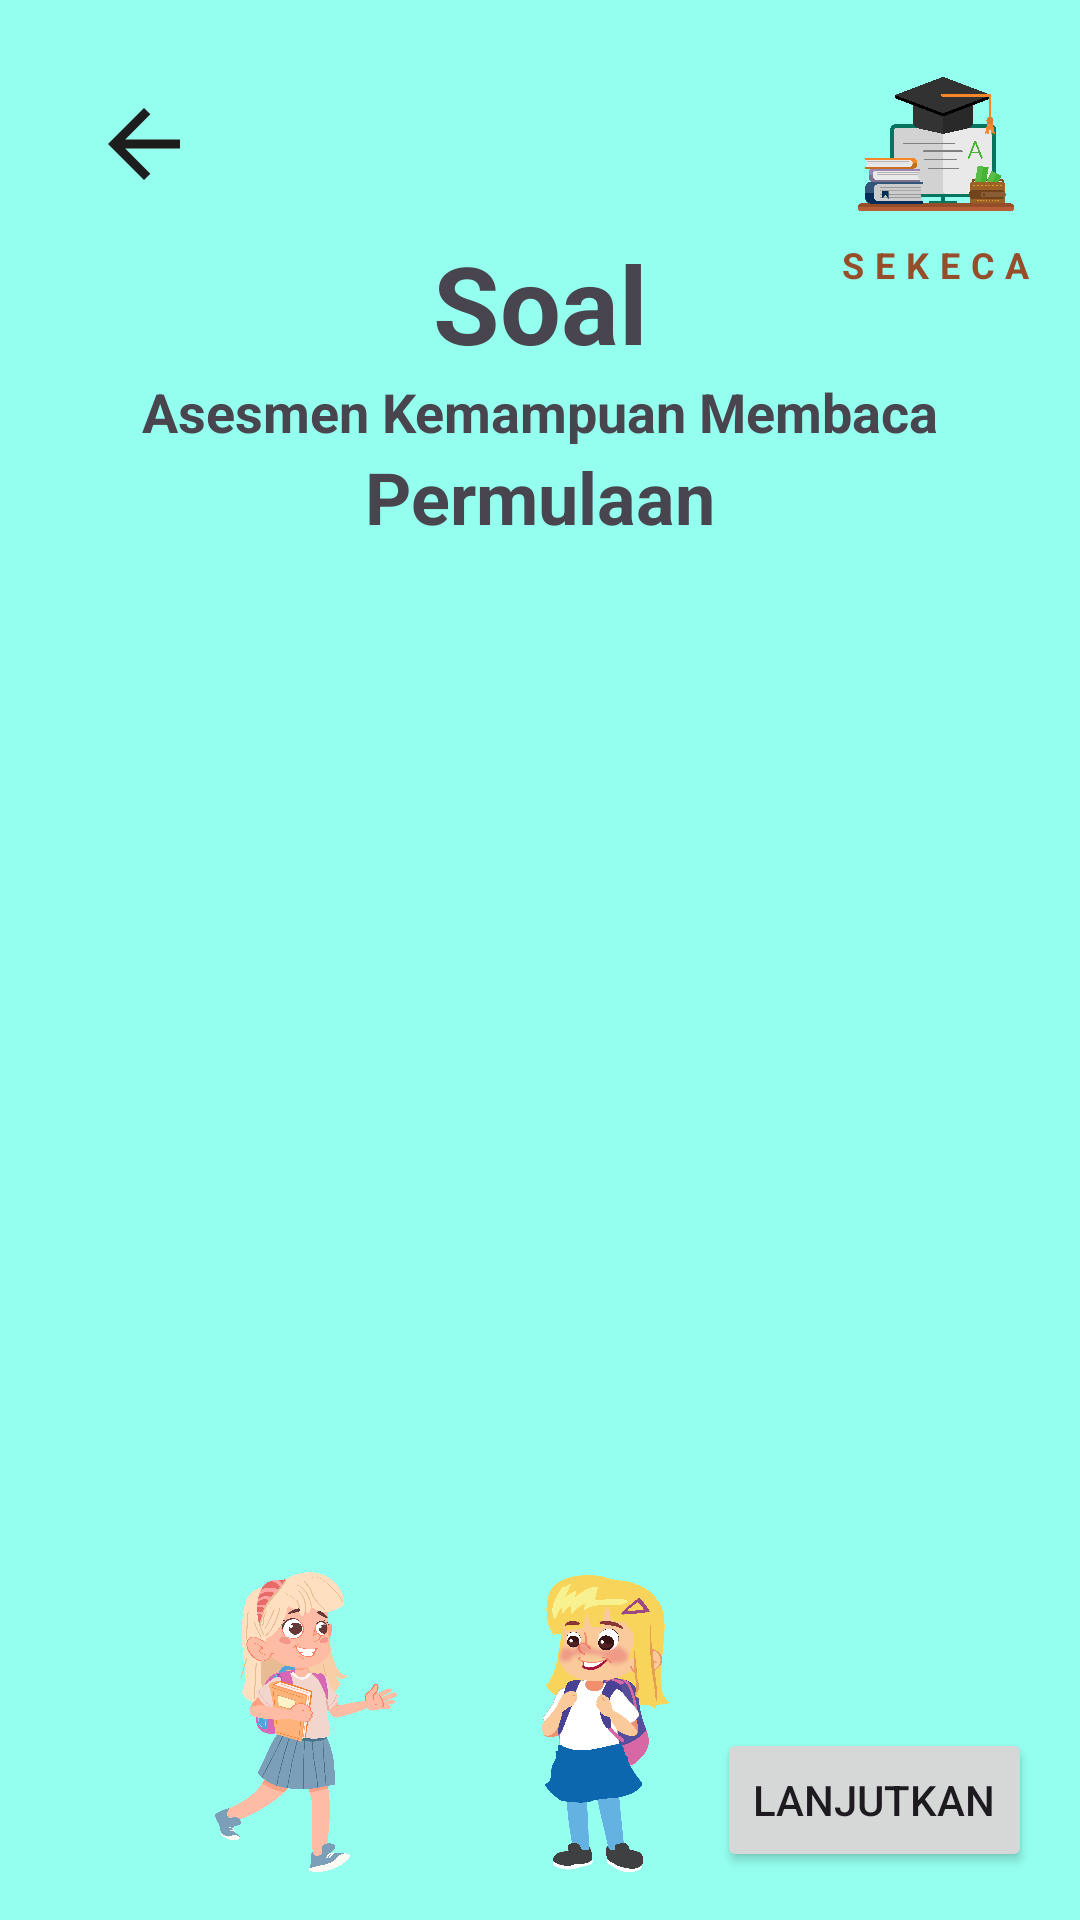

Screen size 1080x1920. Icon name, then its center in pixels as (x=x, y=y):
child: (x=306, y=1722), (x=605, y=1723)
Kembali: (x=144, y=144)
